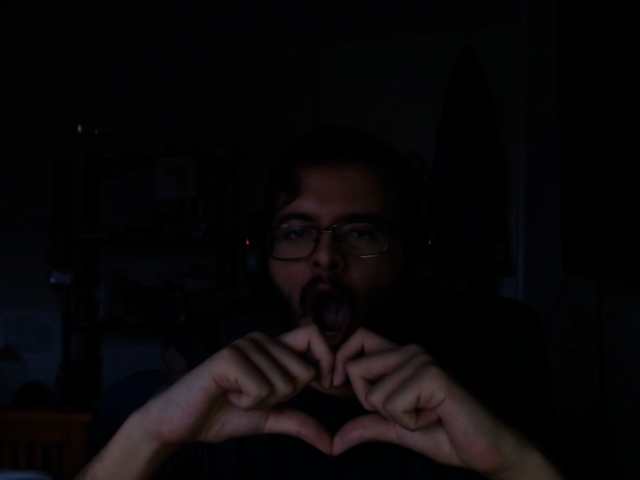Heart: (140, 324, 525, 480)
